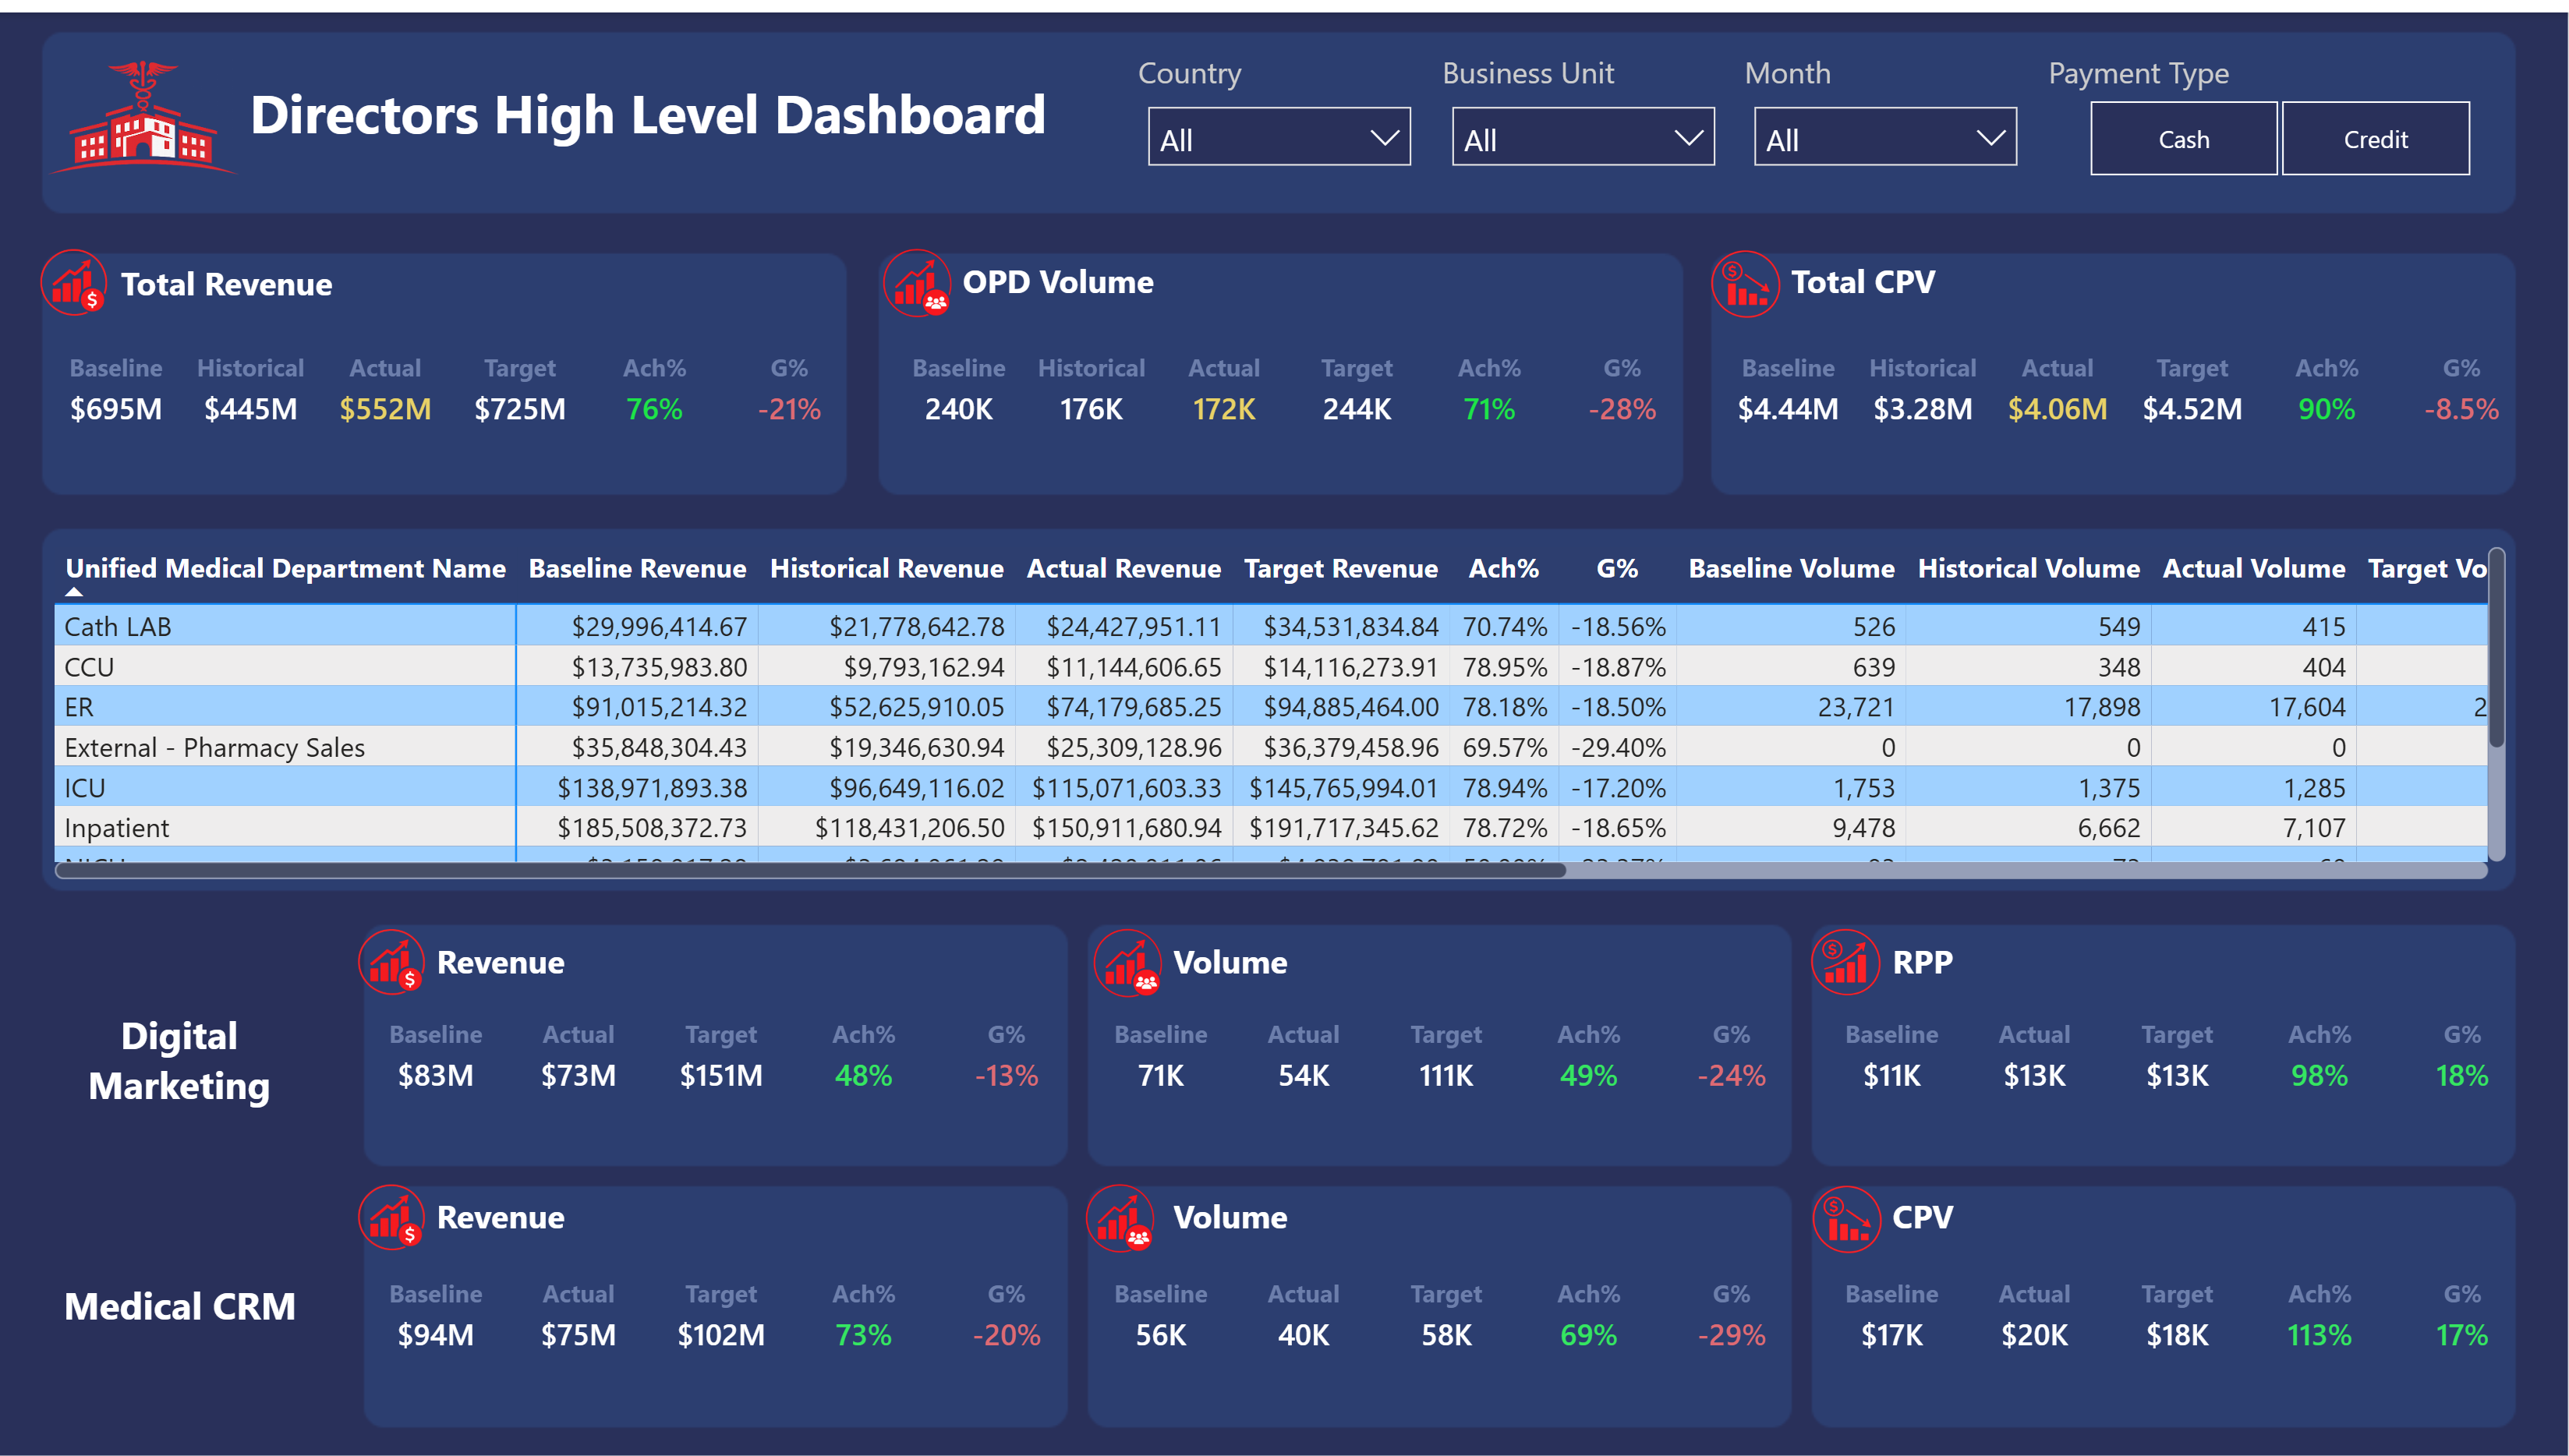

This screenshot's page, from the dashboard's own definition file:
{"tool":"powerbi","page":{"name":"Page 1","canvas":[1280,720],"ordinal":0},"visuals":[{"type":"image","box":[26.1,11,96.1,83.7],"z":0},{"type":"textbox","box":[122.1,26.1,421.3,56.3],"z":1000},{"type":"slicer","title":"Country","fields":{"Values":["FactBilling.Country Name"]},"box":[564,19.2,150.9,70],"z":2000},{"type":"slicer","title":"Business Unit","fields":{"Values":["DimBussinessUnit.BU"]},"box":[714.9,19.2,150.9,70],"z":3000},{"type":"slicer","title":"Month","fields":{"Values":["DimDate.Month.Variation.Date Hierarchy.Month"]},"box":[865.9,19.2,150.9,70],"z":4000},{"type":"slicer","title":"Payment Type","fields":{"Values":["DimPaymentType.Payment Type"]},"box":[1016.8,19.2,238.8,68.6],"z":5000},{"type":"textbox","box":[58.1,118.6,170.9,41.9],"z":6000},{"type":"textbox","box":[888.4,117.4,170.9,43],"z":7000},{"type":"textbox","box":[476.7,117.4,169.8,43],"z":8000},{"type":"cardVisual","title":"Total Revenue","fields":{"Data":["Sum(FactBilling.Baseline Revenue)","Sum(FactBilling.Historical Revenue)","Sum(FactBilling.Actual Revenue)","Sum(FactBilling.Target Revenue)","FactBilling.R.Ach%","FactBilling.R.G%"]},"box":[22.1,132.6,412.8,109.3],"z":9000},{"type":"cardVisual","title":"Total Revenue","fields":{"Data":["Sum(FactBilling.Baseline Volume)","Sum(FactBilling.Historical Volume)","Sum(FactBilling.Actual Volume)","Sum(FactBilling.Target Volume)","FactBilling.V.Ach%","FactBilling.V.G%"]},"box":[441.9,132.6,411.6,109.3],"z":10000},{"type":"cardVisual","title":"Total Revenue","fields":{"Data":["Sum(FactBilling.Baseline C/V)","Sum(FactBilling.Historical C/V)","Sum(FactBilling.Actual C/V)","Sum(FactBilling.Target C/V)","FactBilling.C/V.Ach%","FactBilling.C/V.G%"]},"box":[853.5,132.6,412,109.3],"z":11000},{"type":"pivotTable","fields":{"Rows":["FactBilling.Unified Medical Department Name"],"Values":["Sum(FactBilling.Baseline Revenue)","Sum(FactBilling.Historical Revenue)","Sum(FactBilling.Actual Revenue)","Sum(FactBilling.Target Revenue)","FactBilling.R.Ach%","FactBilling.R.G%","Sum(FactBilling.Baseline Volume)","Sum(FactBilling.Historical Volume)","Sum(FactBilling.Actual Volume)","Sum(FactBilling.Target Volume)","FactBilling.V.Ach%","FactBilling.V.G%"]},"box":[25.6,260.5,1229.1,175.6],"z":12000},{"type":"image","box":[22.1,117.4,35,35],"z":13000},{"type":"image","box":[441.9,117.4,34.9,34.9],"z":14000},{"type":"image","box":[853.5,117.4,34.9,34.9],"z":15000},{"type":"textbox","box":[18.9,490.7,147.7,61.6],"z":16000},{"type":"textbox","box":[25.6,625.6,134.9,34.9],"z":17000},{"type":"cardVisual","title":"Total Revenue","fields":{"Data":["Sum(FactMarketing.Baseline Revenue)","Sum(FactMarketing.Actual Revenue)","Sum(FactMarketing.Target Revenue)","FactMarketing.Rev.Ach%","FactMarketing.Rev.G%"]},"box":[179.1,464,365.1,109.3],"z":18000},{"type":"image","box":[180.2,455.8,34.9,34.9],"z":19000},{"type":"textbox","box":[215.1,455.8,170.9,34.9],"z":20000},{"type":"image","box":[546.5,455.8,34.9,34.9],"z":21000},{"type":"image","box":[543,582.6,34.9,34.9],"z":22000},{"type":"image","box":[180.2,582.6,34.9,34.9],"z":23000},{"type":"textbox","box":[215.1,582.6,170.9,34.9],"z":24000},{"type":"textbox","box":[581.4,455.8,169.8,43],"z":25000},{"type":"textbox","box":[581.4,582.6,169.8,43],"z":26000},{"type":"image","box":[904.7,582.6,34.9,34.9],"z":27000},{"type":"image","box":[902.3,455.8,37.2,33.7],"z":28000},{"type":"textbox","box":[939.5,582.6,170.9,43],"z":29000},{"type":"textbox","box":[939.5,455.8,170.9,43],"z":30000},{"type":"cardVisual","title":"Total Revenue","fields":{"Data":["Sum(FactMarketing.Baseline Volume)","Sum(FactMarketing.Actual Volume)","Sum(FactMarketing.Target Volume)","FactMarketing.VOL.Ach%","FactMarketing.vol.g%"]},"box":[539.5,464,365.1,109.3],"z":31000},{"type":"cardVisual","title":"Total Revenue","fields":{"Data":["Sum(FactMarketing.Baseline RPP)","Sum(FactMarketing.Actual RPP)","Sum(FactMarketing.Target RPP)","FactMarketing.RPP.Ach%","FactMarketing.RPP.G%"]},"box":[903.5,464,365.1,109.3],"z":32000},{"type":"cardVisual","title":"Total Revenue","fields":{"Data":["Sum(FactMedicalCRM.Baseline Revenue)","Sum(FactMedicalCRM.Actual Revenue)","Sum(FactMedicalCRM.Target Revenue)","FactMedicalCRM.revv.ACH%","FactMedicalCRM.Revv.G%"]},"box":[179.1,593,365.1,109.3],"z":33000},{"type":"cardVisual","title":"Total Revenue","fields":{"Data":["Sum(FactMedicalCRM.Baseline Volume)","Sum(FactMedicalCRM.Actual Volume)","Sum(FactMedicalCRM.Target Volume)","FactMedicalCRM.VOOL.ACH%","FactMedicalCRM.VOOL.G%"]},"box":[539.5,593,365.1,109.3],"z":34000},{"type":"cardVisual","title":"Total Revenue","fields":{"Data":["Sum(FactMedicalCRM.Baseline CPV)","Sum(FactMedicalCRM.Actual CPV)","Sum(FactMedicalCRM.Target CPV)","FactMedicalCRM.CPV.ACH%","FactMedicalCRM.CPV.G%"]},"box":[903.5,593,365.1,109.3],"z":35000}]}

Visuals, with their boxes in screenshot pixels (x1, y1, x2, y2), scaled from the page's 1280x720 canvas onto the 2569x1456 screenshot:
image: [x1=52, y1=23, x2=246, y2=192]
textbox: [x1=245, y1=53, x2=1091, y2=167]
"Country" slicer: [x1=1132, y1=39, x2=1435, y2=180]
"Business Unit" slicer: [x1=1435, y1=39, x2=1738, y2=180]
"Month" slicer: [x1=1738, y1=39, x2=2040, y2=180]
"Payment Type" slicer: [x1=2040, y1=39, x2=2520, y2=178]
textbox: [x1=117, y1=240, x2=459, y2=324]
textbox: [x1=1783, y1=238, x2=2126, y2=324]
textbox: [x1=957, y1=238, x2=1297, y2=324]
"Total Revenue" cardVisual: [x1=44, y1=268, x2=873, y2=489]
"Total Revenue" cardVisual: [x1=887, y1=268, x2=1713, y2=489]
"Total Revenue" cardVisual: [x1=1713, y1=268, x2=2540, y2=489]
pivotTable - FactBilling.Unified Medical Department Name x Sum(FactBilling.Baseline Revenue): [x1=51, y1=527, x2=2518, y2=882]
image: [x1=44, y1=238, x2=115, y2=308]
image: [x1=887, y1=238, x2=957, y2=308]
image: [x1=1713, y1=238, x2=1783, y2=308]
textbox: [x1=38, y1=992, x2=334, y2=1117]
textbox: [x1=51, y1=1265, x2=322, y2=1336]
"Total Revenue" cardVisual: [x1=359, y1=938, x2=1092, y2=1159]
image: [x1=362, y1=922, x2=432, y2=992]
textbox: [x1=432, y1=922, x2=775, y2=992]
image: [x1=1097, y1=922, x2=1167, y2=992]
image: [x1=1090, y1=1179, x2=1160, y2=1249]
image: [x1=362, y1=1179, x2=432, y2=1249]
textbox: [x1=432, y1=1179, x2=775, y2=1249]
textbox: [x1=1167, y1=922, x2=1508, y2=1009]
textbox: [x1=1167, y1=1179, x2=1508, y2=1265]
image: [x1=1816, y1=1179, x2=1886, y2=1249]
image: [x1=1811, y1=922, x2=1885, y2=990]
textbox: [x1=1885, y1=1179, x2=2228, y2=1265]
textbox: [x1=1885, y1=922, x2=2228, y2=1009]
"Total Revenue" cardVisual: [x1=1083, y1=938, x2=1816, y2=1159]
"Total Revenue" cardVisual: [x1=1814, y1=938, x2=2546, y2=1159]
"Total Revenue" cardVisual: [x1=359, y1=1200, x2=1092, y2=1420]
"Total Revenue" cardVisual: [x1=1083, y1=1200, x2=1816, y2=1420]
"Total Revenue" cardVisual: [x1=1814, y1=1200, x2=2546, y2=1420]
